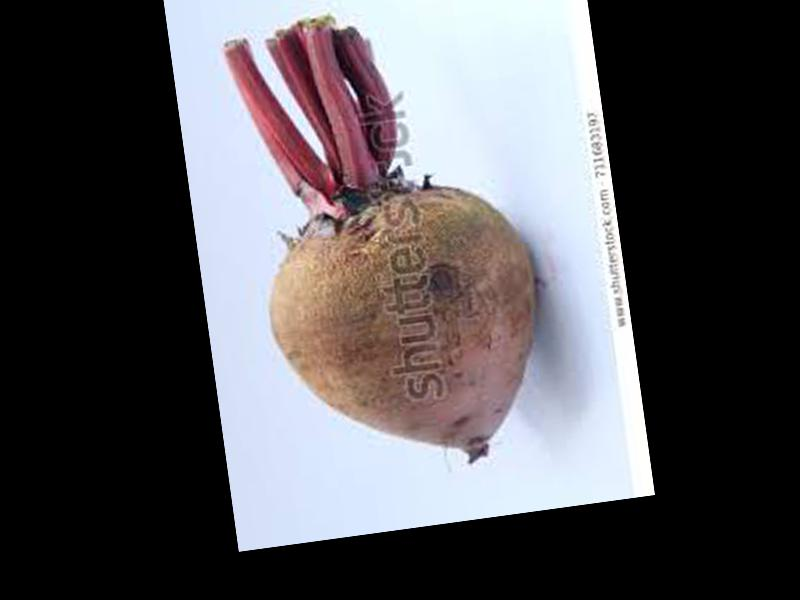Beet: (227, 1, 556, 481)
